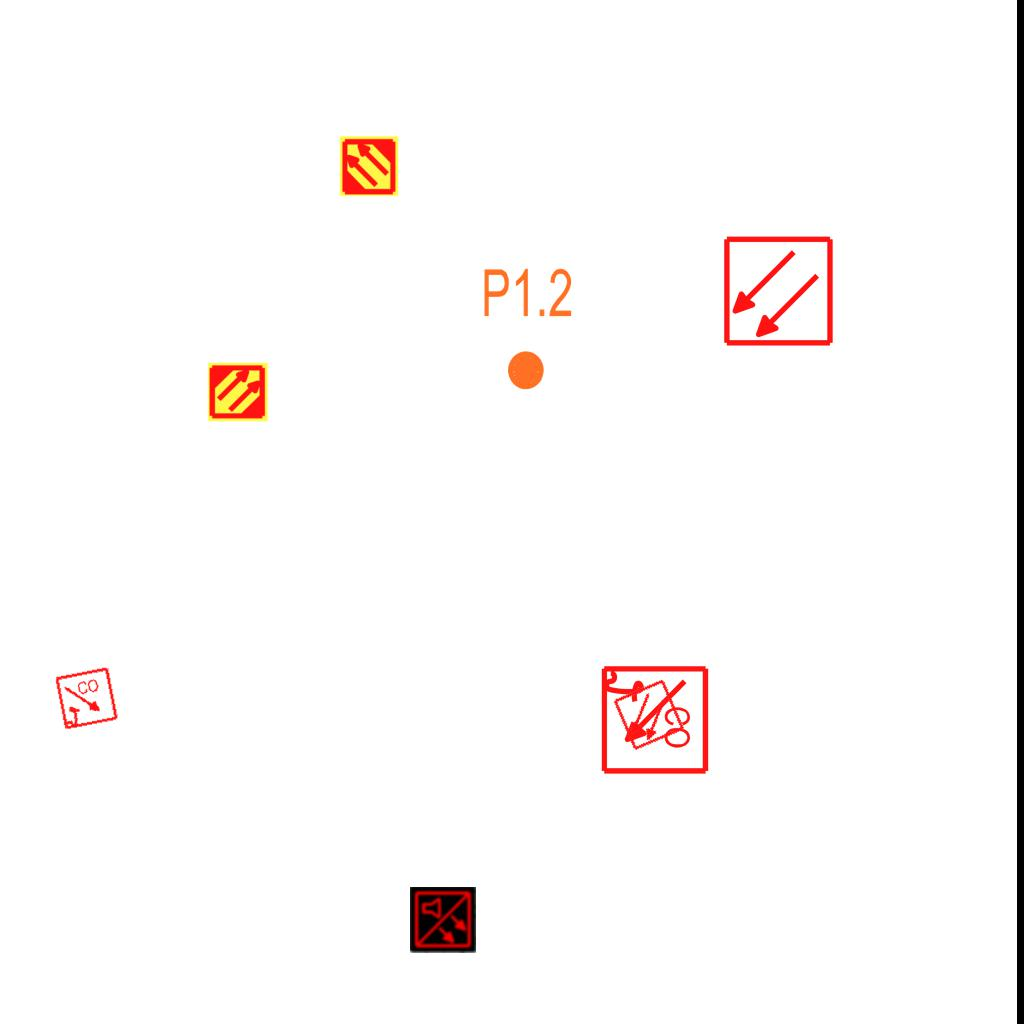ASR_Ansaugrauchmelder: (338, 135, 400, 197), (207, 361, 269, 423)
Downlight_LED_Einbauleuchten_Flur: (481, 265, 574, 393)
OKW_Multisensormelder_(Kombination_optischer_Rauch-Kahlenmonoxid_Waerme-Melder): (410, 887, 476, 953)
RMO_Rauchmelder_optischer: (722, 235, 835, 348), (612, 678, 686, 752)
ROA_Rauchmelder_optisch_mit_Signalgeber_(Sockelsirene): (597, 664, 710, 777), (54, 666, 120, 732)
